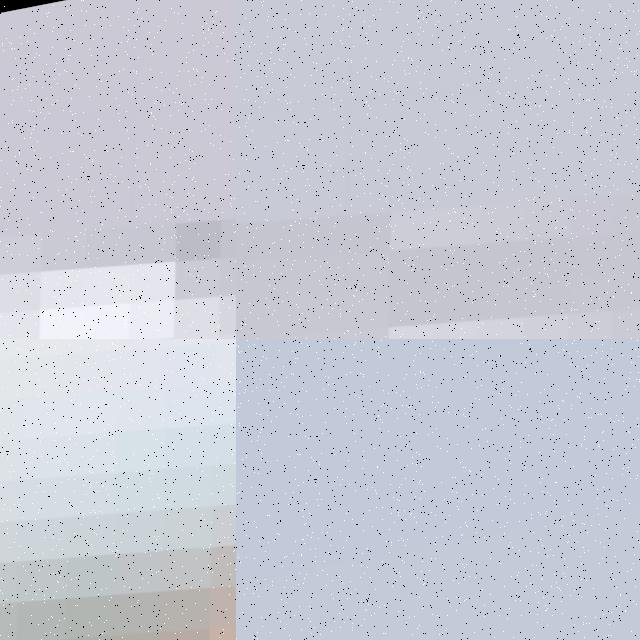0: (236, 0, 640, 339), (0, 0, 236, 339)
drone: (0, 339, 236, 640)
